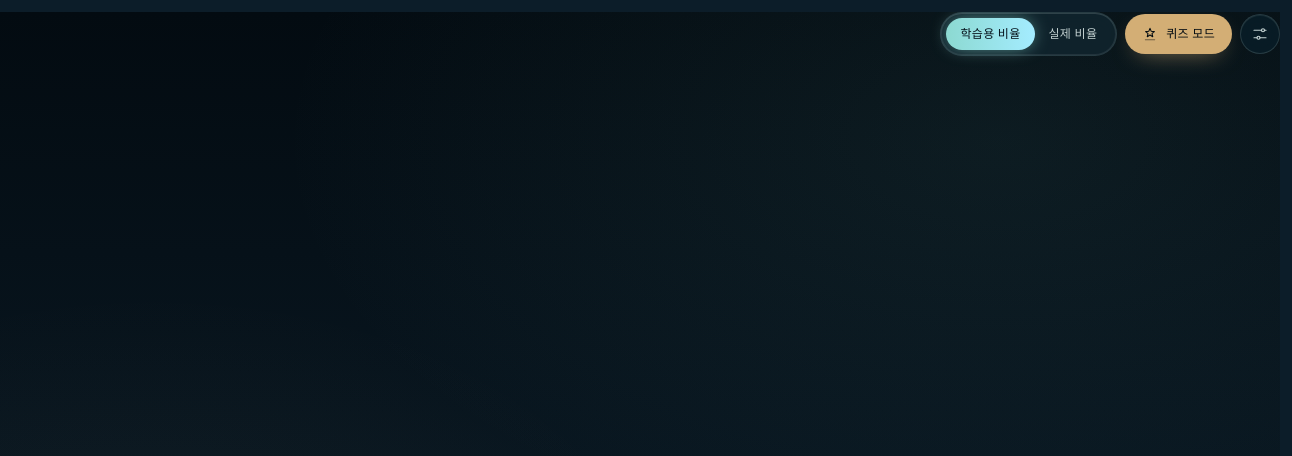
Test: TopControls › 설정 팝오버: 그래픽 품질과 토글
Step 1. Click the button named "설정" → (1260, 34), box [1240, 14, 1280, 54]
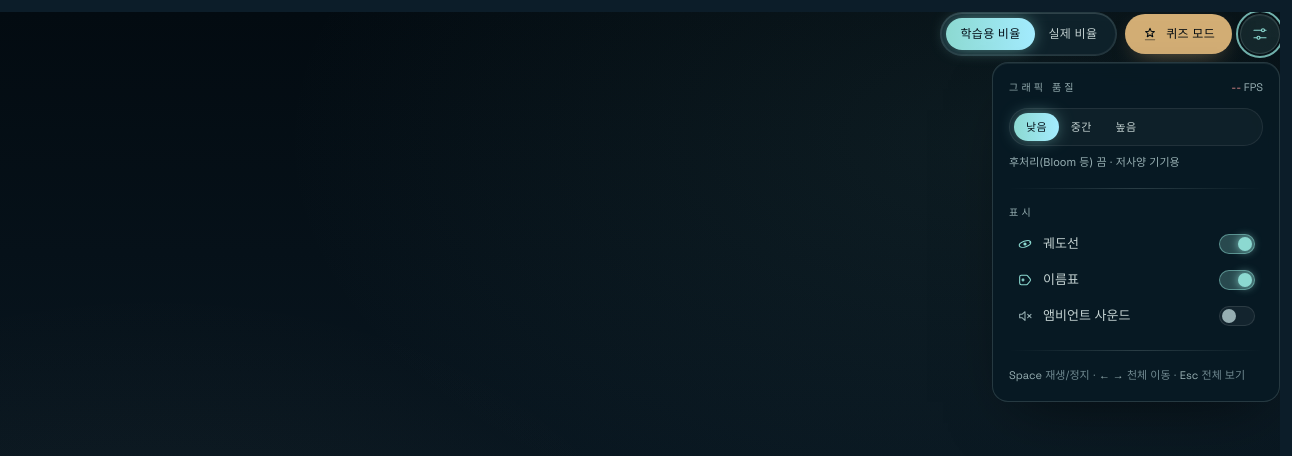
Step 2. Click the radio button labelled "낮음" → (1036, 127), box [1014, 112, 1059, 141]
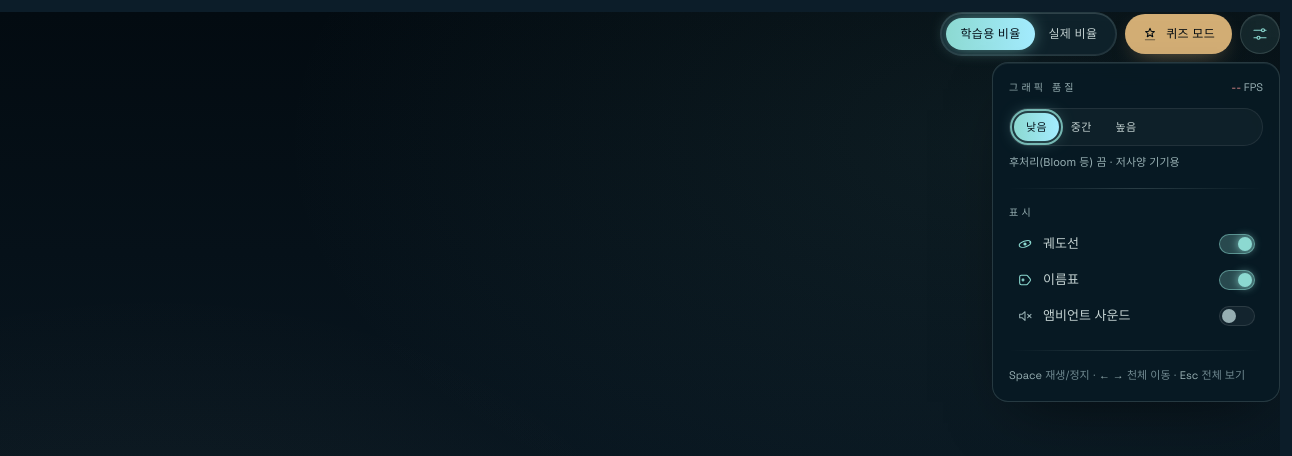
Result: the text "후처리(Bloom 등) 끔 · 저사양 기기용" is shown at [1009, 155, 1180, 169]
Step 3. Click the switch labelled "궤도선" → (1136, 244), box [1009, 226, 1263, 262]
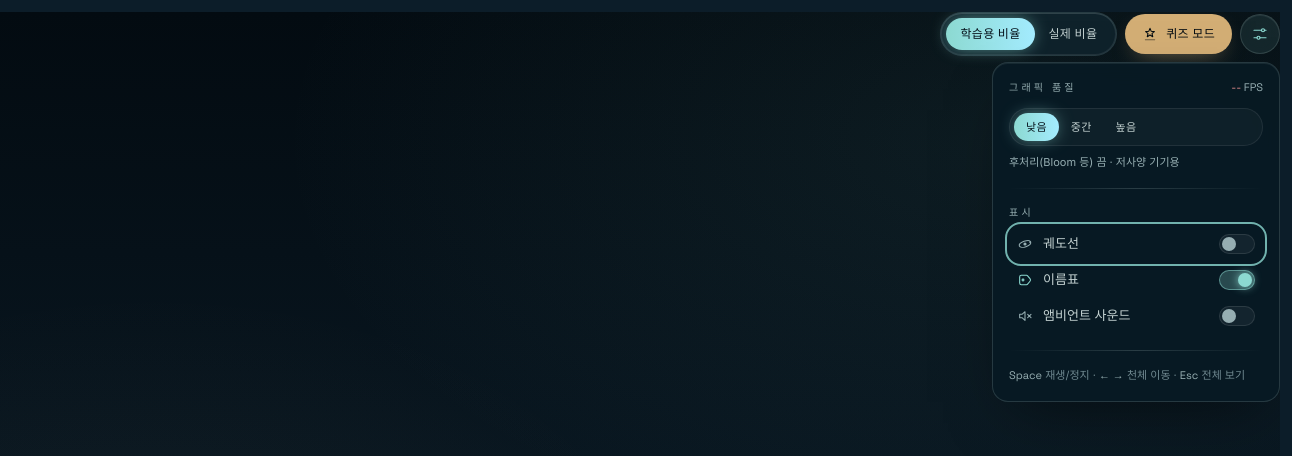
Step 4. Click the switch labelled "이름표" → (1136, 280), box [1009, 262, 1263, 298]
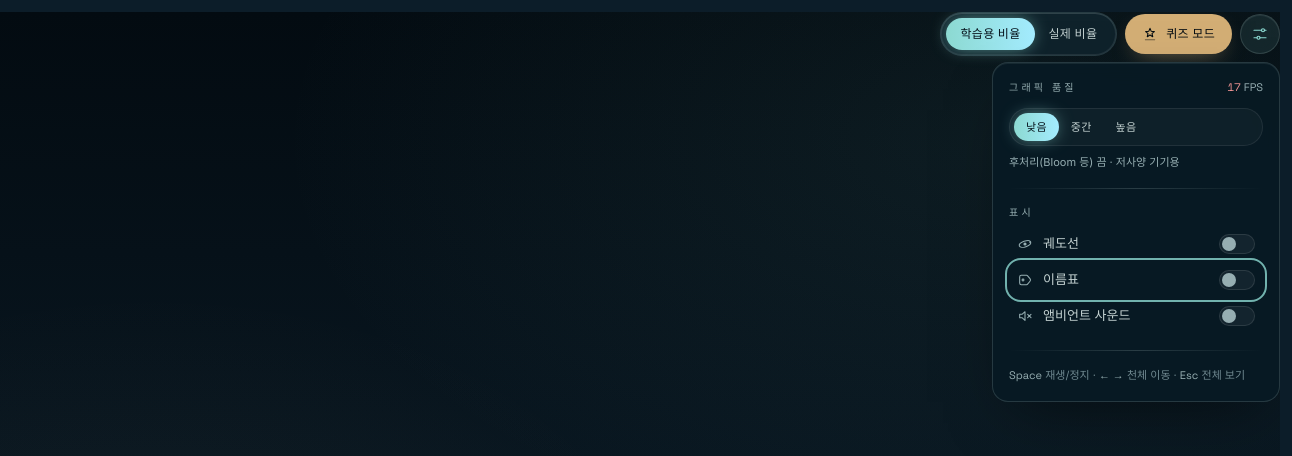
Step 5. Press Escape
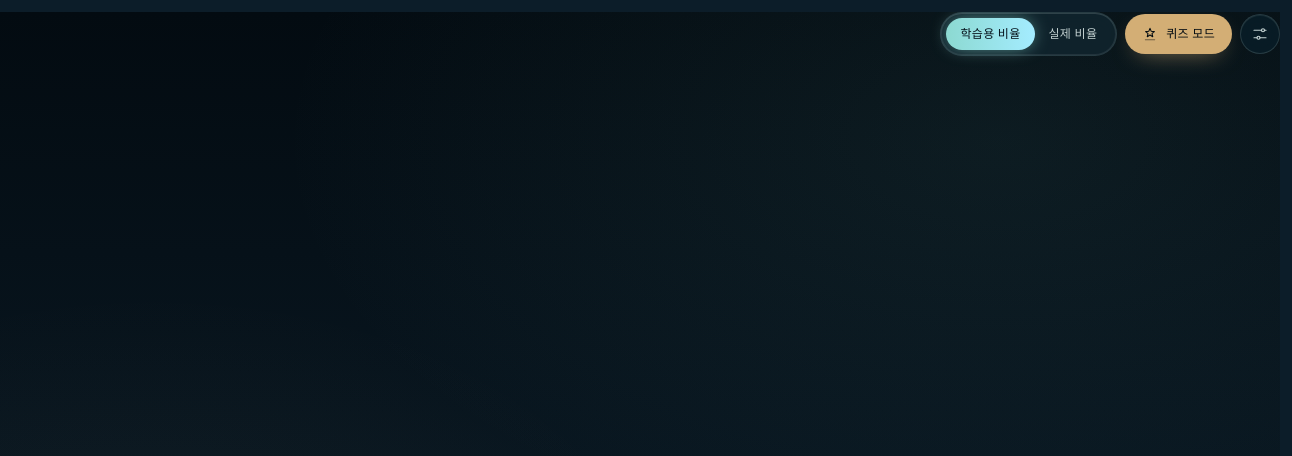
Result: the button named "설정" is collapsed at [1240, 14, 1280, 54]
